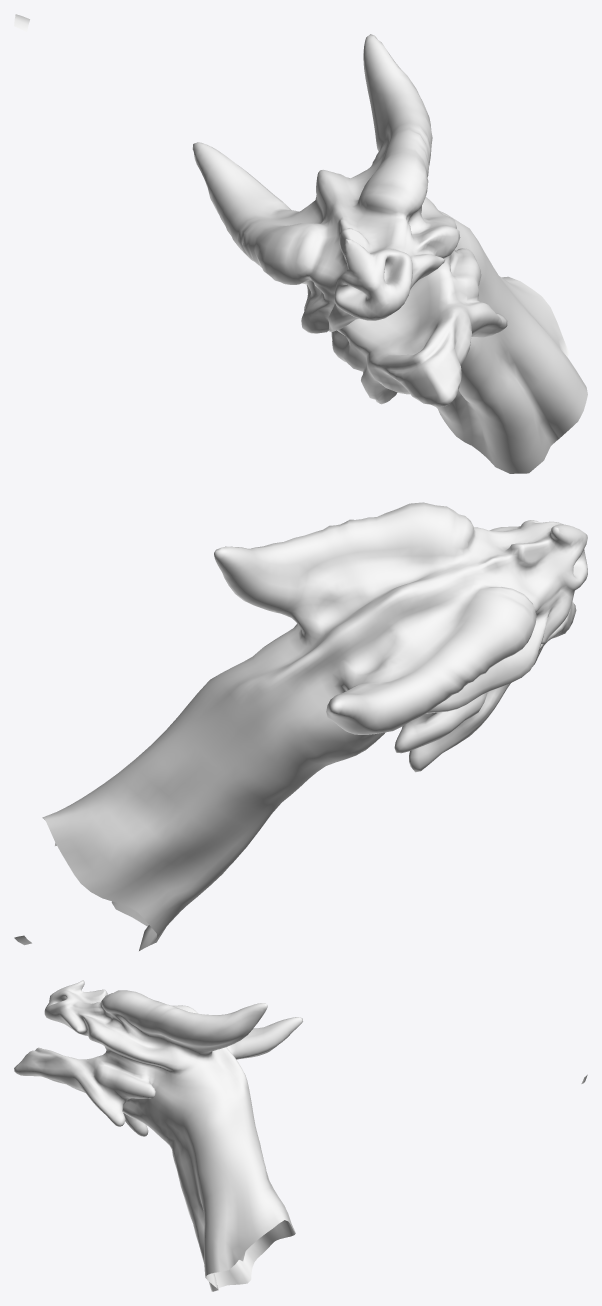
The model's file is Cabeza4.obj.
3 renders of one model, top to bottom at view 1: azimuth 30°, elevation 25°; view 2: azimuth 150°, elevation 25°; view 3: azimuth 270°, elevation 25°, orthographic. The views are drawn at different scales.
Parts seen in each view (by area): view 1: Cabeza4; view 2: Cabeza4; view 3: Cabeza4.
Boxes of the visible parts, x1=… form: Cabeza4: x1=14, y1=14, x2=587, y2=473; Cabeza4: x1=14, y1=502, x2=587, y2=950; Cabeza4: x1=14, y1=980, x2=587, y2=1291.
Bounding box in the file's own units: 1.97 × 2.13 × 4.33.
Materials: 1 (1 with a texture image).
